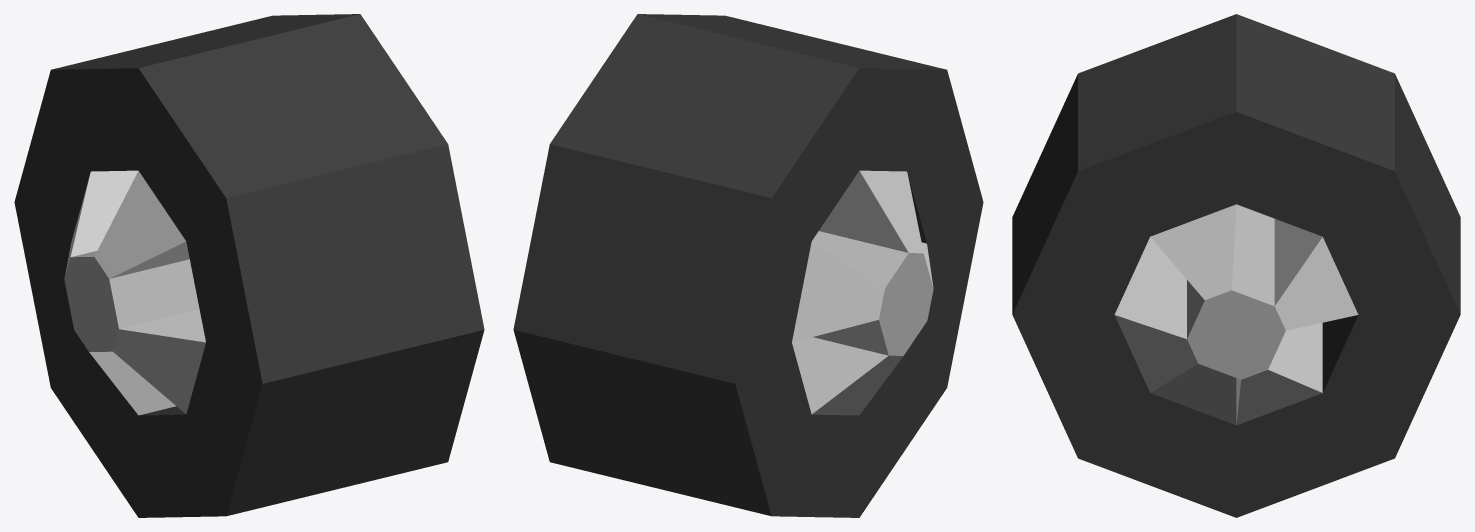
Rendered from Truck_Wheel.fbx.
The picture shows the model from 3 angles, left to right: view 1: azimuth 30°, elevation 25°; view 2: azimuth 150°, elevation 25°; view 3: azimuth 270°, elevation 25°; orthographic projection. The views are drawn at different scales.
Visible parts, largest first — view 1: Truck_Wheel; view 2: Truck_Wheel; view 3: Truck_Wheel.
Part boxes in pixels (box(x1,y1,x2,y2)): Truck_Wheel: box(14, 14, 484, 517); Truck_Wheel: box(513, 14, 983, 517); Truck_Wheel: box(1012, 14, 1460, 517).
Bounding box in the file's own units: 146 × 200 × 200.
